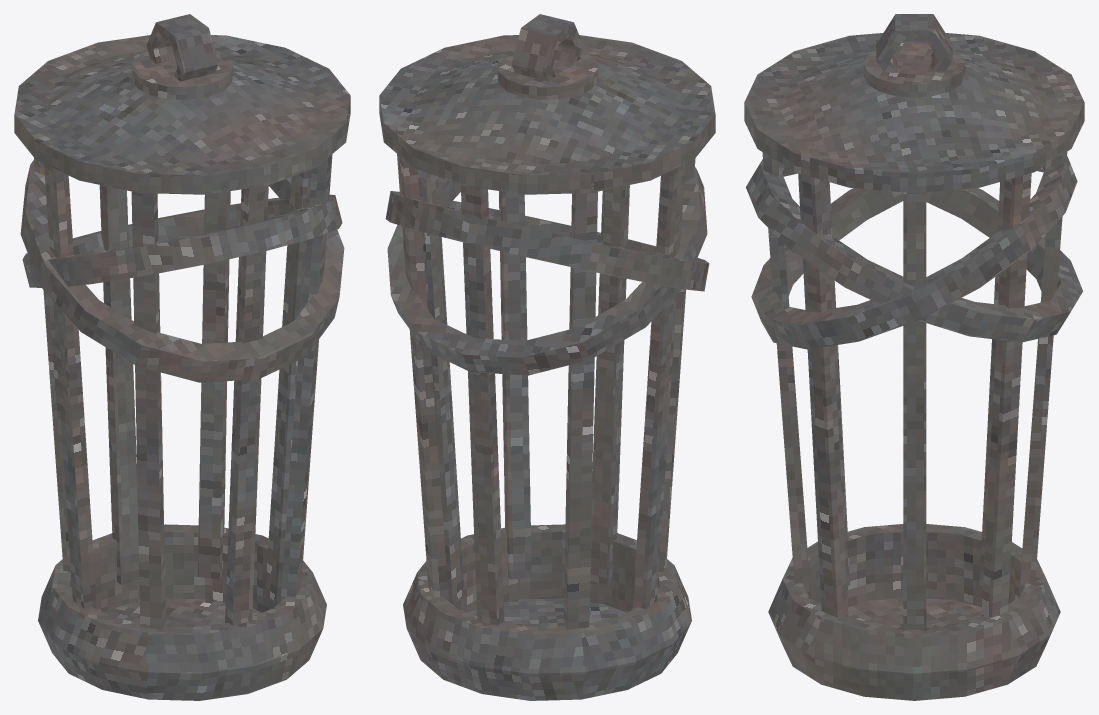
File: Cage_3.gltf
3 views of the same model, side by side, from view 1: azimuth 30°, elevation 25°; view 2: azimuth 150°, elevation 25°; view 3: azimuth 270°, elevation 25° (orthographic).
Parts seen in each view (by area): view 1: Cage_3; view 2: Cage_3; view 3: Cage_3.
Part boxes in pixels (left/top/right/bottom): Cage_3: left=14, top=14, right=350, bottom=700; Cage_3: left=379, top=14, right=715, bottom=700; Cage_3: left=744, top=14, right=1084, bottom=700.
Bounding box in the file's own units: 2.62 × 5.3 × 2.62.
1 material, 1 textured.
